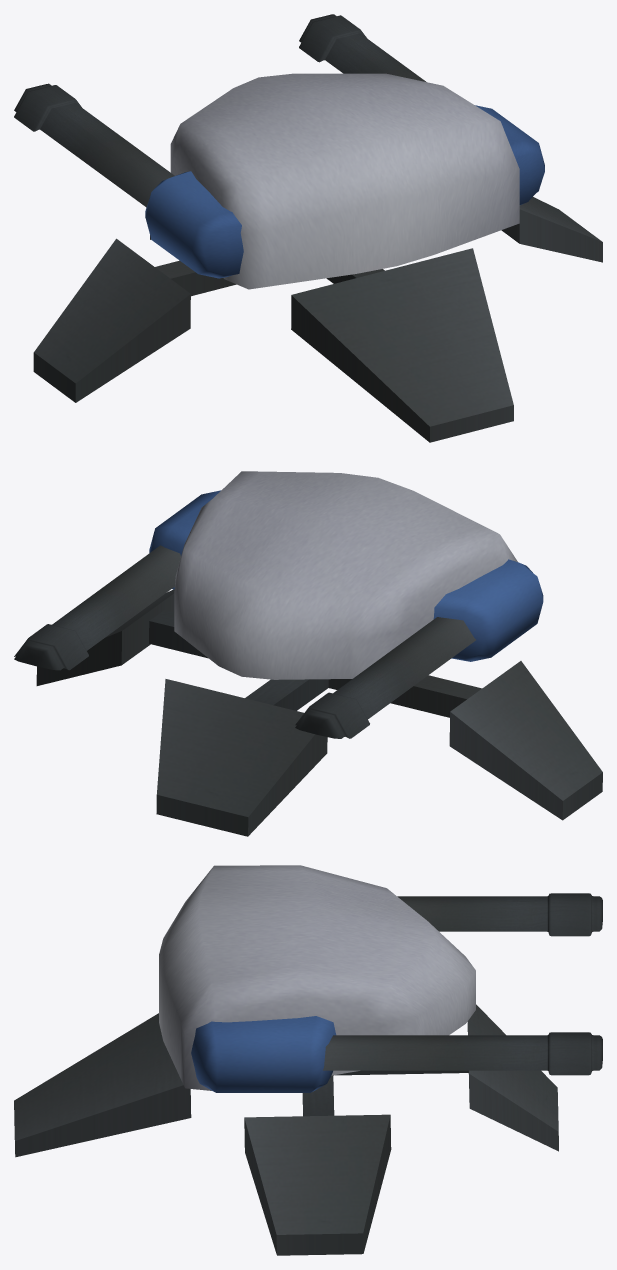
Rendered from mortar02.fbx.
The picture shows the model from 3 angles, top to bottom: view 1: azimuth 30°, elevation 25°; view 2: azimuth 150°, elevation 25°; view 3: azimuth 270°, elevation 25°; orthographic projection.
Parts seen in each view (by area): view 1: polySurface570, polySurface567; view 2: polySurface570, polySurface567; view 3: polySurface570, polySurface567.
Part boxes in pixels (x1=…): polySurface570: x1=14, y1=14, x2=544, y2=289; polySurface567: x1=33, y1=197, x2=602, y2=442; polySurface570: x1=14, y1=471, x2=543, y2=738; polySurface567: x1=36, y1=589, x2=602, y2=836; polySurface570: x1=159, y1=865, x2=602, y2=1092; polySurface567: x1=14, y1=1004, x2=558, y2=1255.
Bounding box in the file's own units: 23.7 × 9.71 × 22.81.
